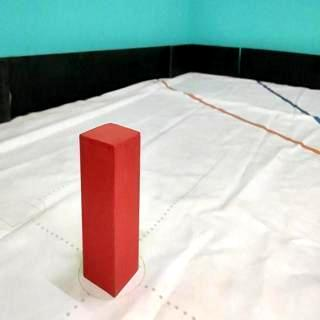redbox: (78, 122, 140, 300)
